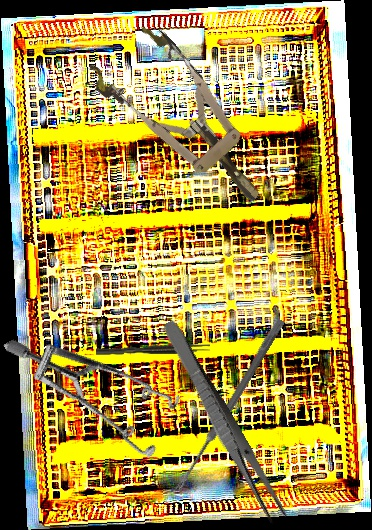Dressing Forceps: (155, 317, 290, 527)
Speculum: (81, 13, 289, 230), (3, 282, 198, 493)
Surgical Spoon: (173, 317, 286, 493)
Tissue Forceps: (95, 343, 211, 355)
